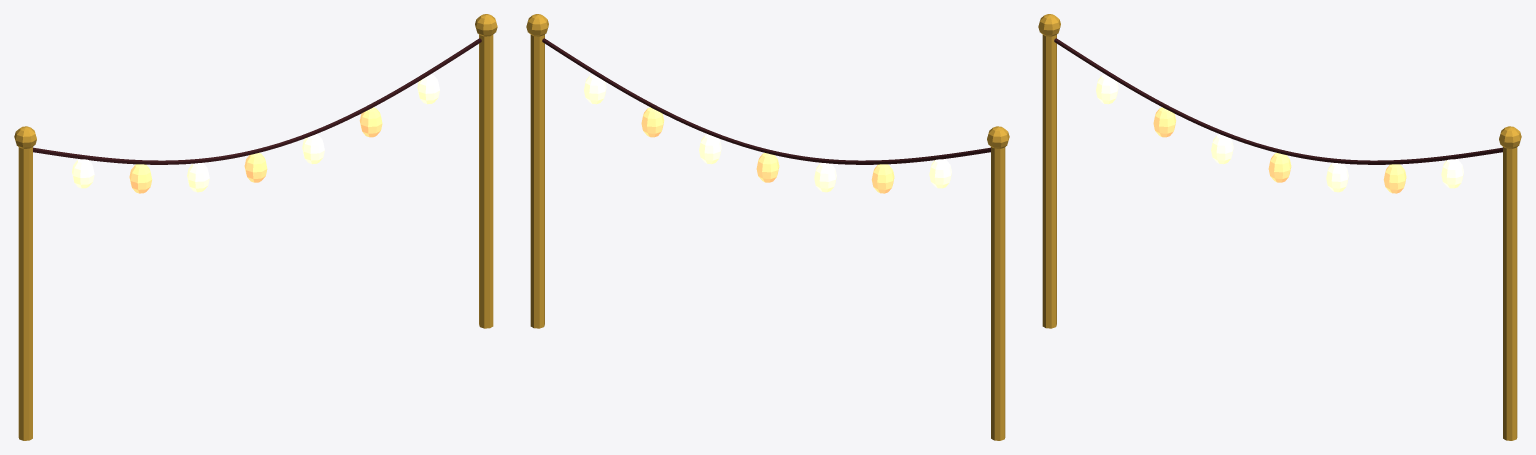
File: decoracao-luzinhas.glb
3 views of the same model, side by side, from view 1: azimuth 30°, elevation 25°; view 2: azimuth 150°, elevation 25°; view 3: azimuth 330°, elevation 25° (orthographic).
Visible parts, largest first — view 1: Cylinder, Cylinder.001, Sphere.003, Sphere.002, Sphere.004, Sphere.005, Sphere.006, Sphere.007, Sphere.008; view 2: Cylinder, Cylinder.001, Sphere.003, Sphere.002, Sphere.004, Sphere.005, Sphere.006, Sphere.007, Sphere.008; view 3: Cylinder.001, Cylinder, Sphere.007, Sphere.008, Sphere.006, Sphere.005, Sphere.004, Sphere.003, Sphere.002.
Boxes of the visible parts, left/top/right/bottom form: Cylinder: left=18, top=147, right=32, bottom=440; Cylinder.001: left=479, top=35, right=493, bottom=328; Sphere.003: left=129, top=164, right=152, bottom=193; Sphere.002: left=72, top=159, right=94, bottom=188; Sphere.004: left=187, top=163, right=209, bottom=192; Sphere.005: left=244, top=153, right=267, bottom=182; Sphere.006: left=302, top=134, right=324, bottom=164; Sphere.007: left=359, top=107, right=382, bottom=137; Sphere.008: left=417, top=74, right=439, bottom=104; Cylinder: left=991, top=147, right=1005, bottom=440; Cylinder.001: left=530, top=35, right=544, bottom=328; Sphere.003: left=871, top=164, right=894, bottom=193; Sphere.002: left=929, top=159, right=951, bottom=188; Sphere.004: left=814, top=163, right=836, bottom=192; Sphere.005: left=756, top=153, right=779, bottom=182; Sphere.006: left=699, top=134, right=721, bottom=164; Sphere.007: left=641, top=107, right=664, bottom=137; Sphere.008: left=584, top=74, right=606, bottom=104; Cylinder.001: left=1503, top=147, right=1517, bottom=440; Cylinder: left=1042, top=35, right=1056, bottom=328; Sphere.007: left=1383, top=164, right=1406, bottom=193; Sphere.008: left=1441, top=159, right=1463, bottom=188; Sphere.006: left=1326, top=163, right=1348, bottom=192; Sphere.005: left=1268, top=153, right=1291, bottom=182; Sphere.004: left=1211, top=134, right=1233, bottom=164; Sphere.003: left=1153, top=107, right=1176, bottom=137; Sphere.002: left=1096, top=74, right=1118, bottom=104.
Size of the model in its own units: 1.88 by 1.16 by 0.08.
